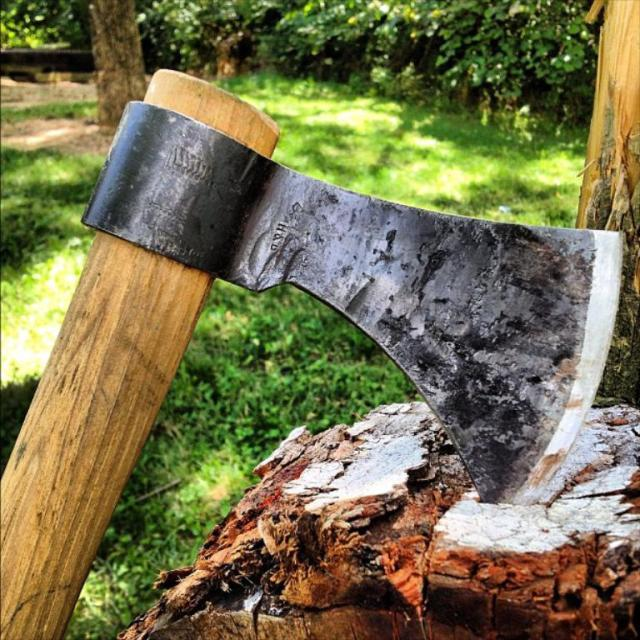Axe: (2, 71, 621, 639)
